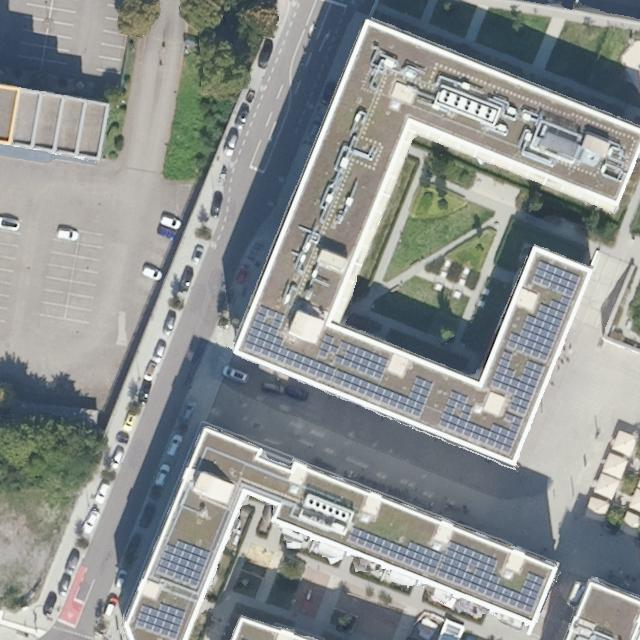PV: (433, 259, 585, 458), (241, 303, 437, 422), (345, 523, 547, 617), (152, 537, 213, 595), (131, 601, 189, 639)
